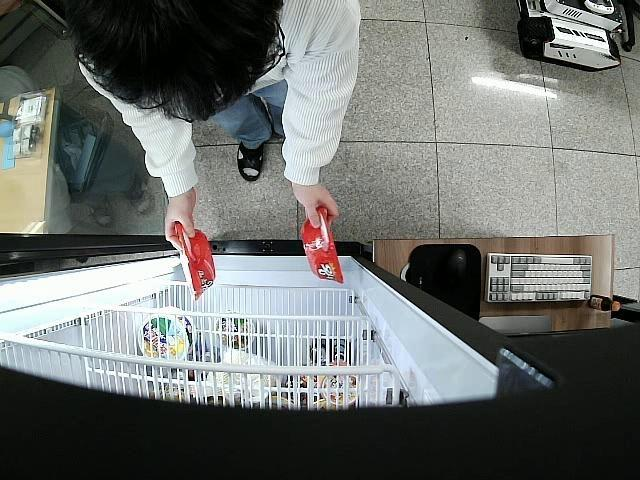10_wangTtukkeong: (298, 205, 348, 285), (174, 218, 218, 301)
